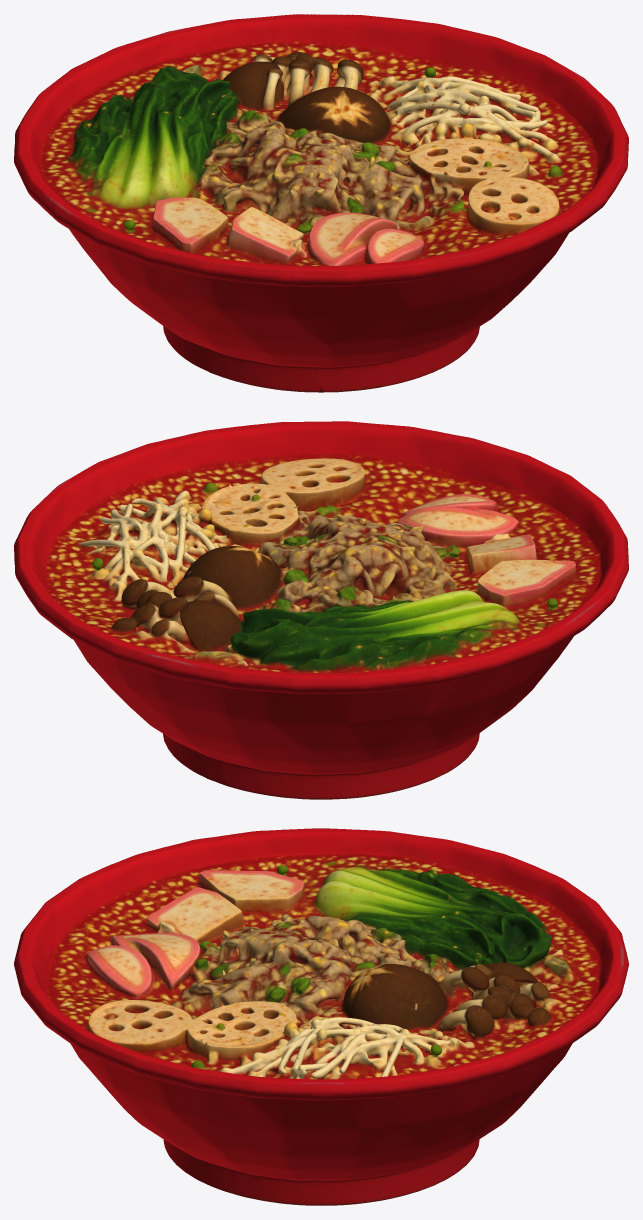
File: Meshy_AI_마라탕_완성그릇_20261120_texture.fbx
The picture shows the model from 3 angles, top to bottom: view 1: azimuth 30°, elevation 25°; view 2: azimuth 150°, elevation 25°; view 3: azimuth 270°, elevation 25°; orthographic projection.
Parts seen in each view (by area): view 1: Mesh_0; view 2: Mesh_0; view 3: Mesh_0.
Part boxes in pixels (<box>): Mesh_0: <box>14,14,628,392</box>; Mesh_0: <box>14,421,628,799</box>; Mesh_0: <box>14,828,628,1205</box>.
Bounding box in the file's own units: 190 × 69.54 × 190.
Materials: 1 (1 with a texture image).
